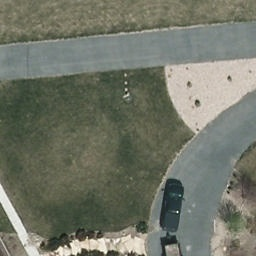car: (162, 183, 186, 231)
